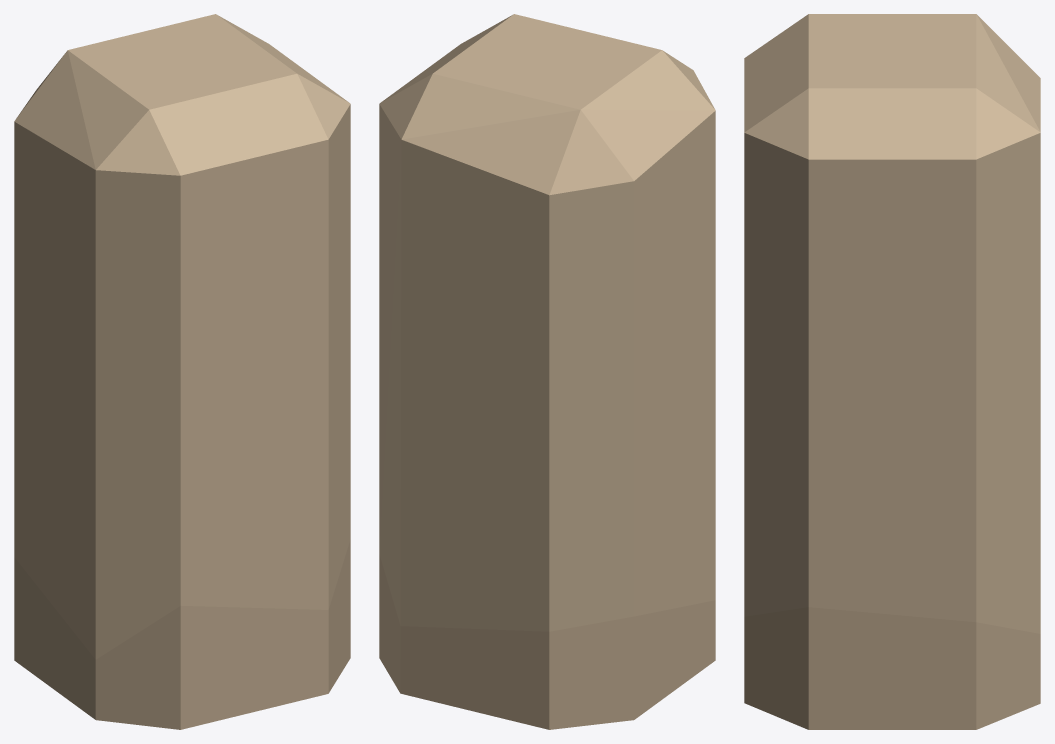
Rendered from SM_Bld_Wall_02.fbx.
The picture shows the model from 3 angles, left to right: view 1: azimuth 30°, elevation 25°; view 2: azimuth 150°, elevation 25°; view 3: azimuth 270°, elevation 25°; orthographic projection. The views are drawn at different scales.
Visible parts, largest first — view 1: SM_Bld_Wall_02; view 2: SM_Bld_Wall_02; view 3: SM_Bld_Wall_02.
Boxes of the visible parts, bbox=[...] form: SM_Bld_Wall_02: bbox=[14, 14, 350, 729]; SM_Bld_Wall_02: bbox=[379, 14, 715, 729]; SM_Bld_Wall_02: bbox=[744, 14, 1040, 729].
Bounding box in the file's own units: 0.00543 × 0.0121 × 0.00531.
1 material, 1 textured.
